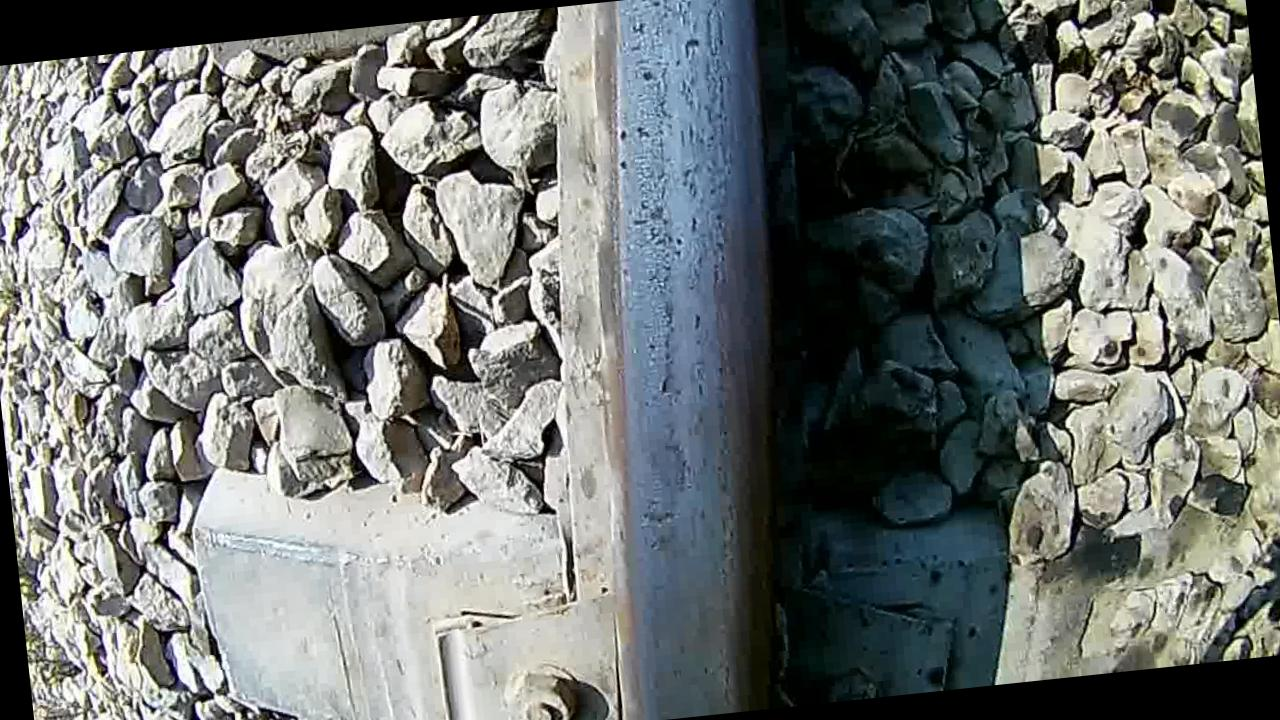crack: (563, 0, 826, 720)
